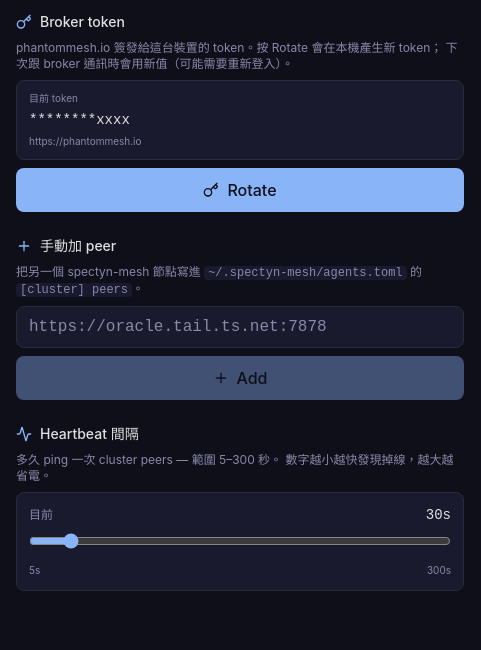
Scenario: <MobileNodeAdmin /> — broker token rotation › rotate button surfaces failure pill on error
This screenshot has width=481, height=650.
Check: the text "********xxxx" is shown, box [29,112,130,128]
Click the button with test id "rotate-button" at (240, 190), box [16,168,464,212]
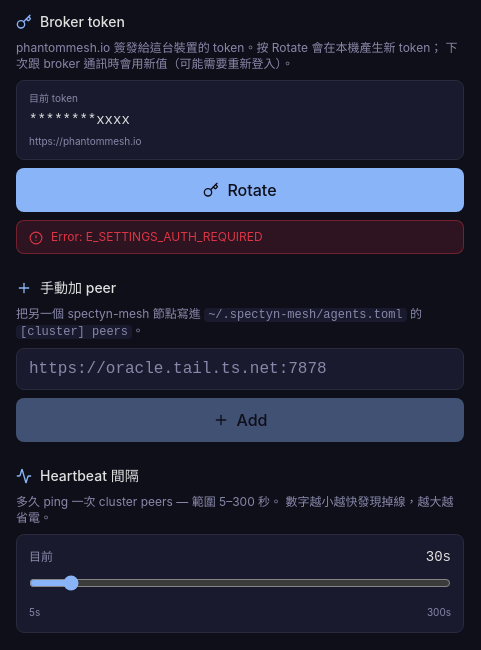
Check: the element with test id "rotate-pill" shows "E_SETTINGS_AUTH_REQUIRED", box [51,229,263,244]
